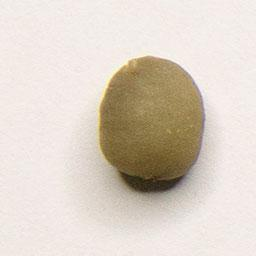peaberry: (95, 53, 208, 186)
